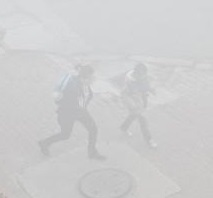person: (37, 63, 104, 160), (118, 61, 162, 150)
